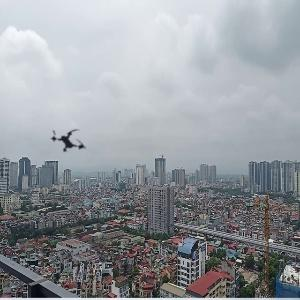drone: (35, 109, 102, 176)
